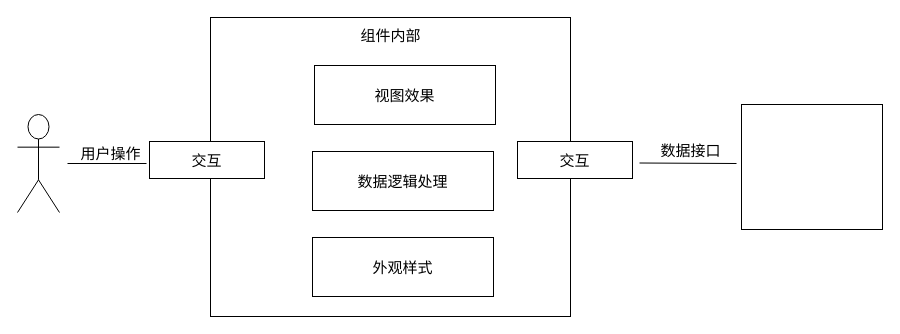
Image size: 900x334. Some labels were removed from this diagram. Each missing label, with the centre of its shape:
其他组件: (811,167)
用户: (38,163)
